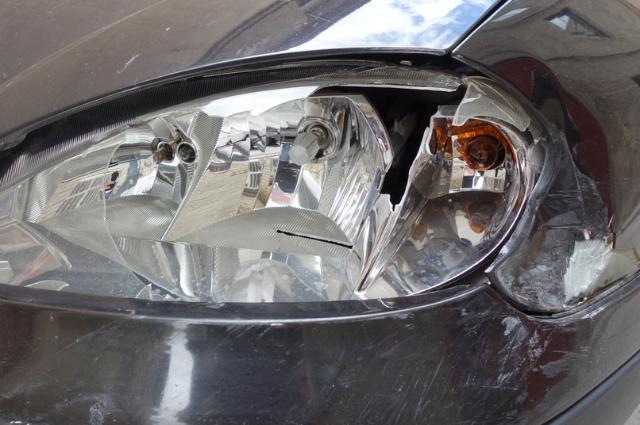Fender: (483, 142, 638, 315)
Light: (42, 58, 562, 311)
